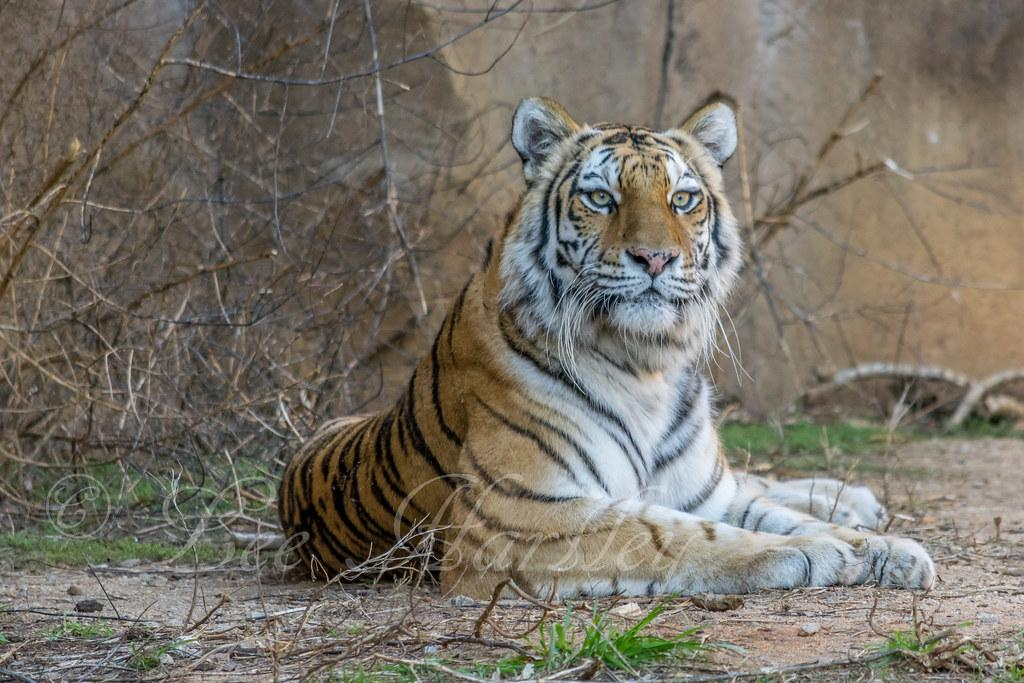tiger: (276, 91, 937, 604)
